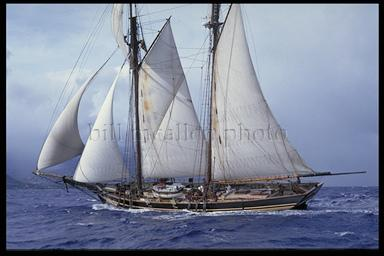Ship: (35, 4, 368, 213)
